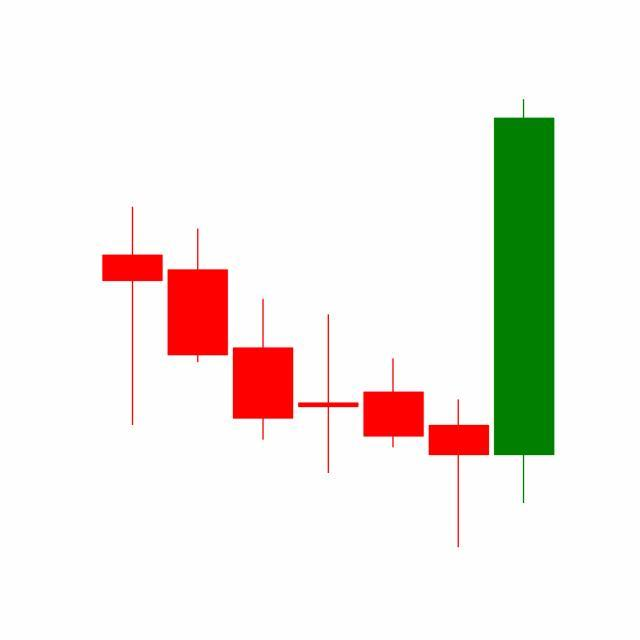Hikkake Pattern: (165, 225, 492, 549)
